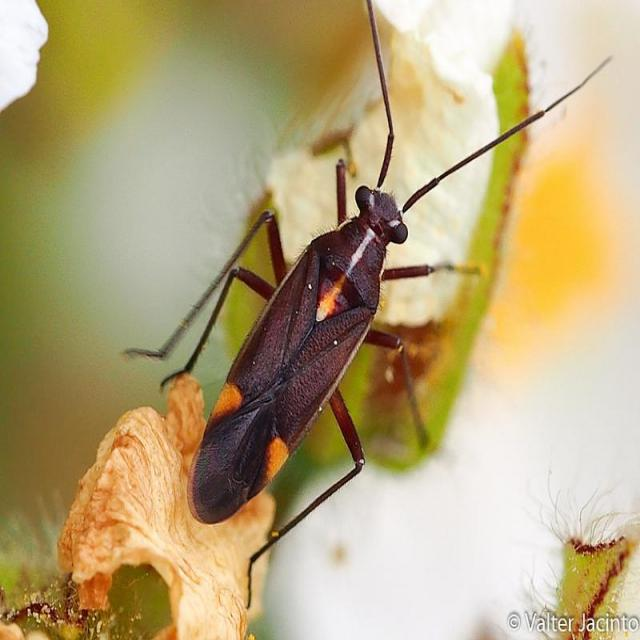Miridae-Adult-: (111, 20, 580, 564)
